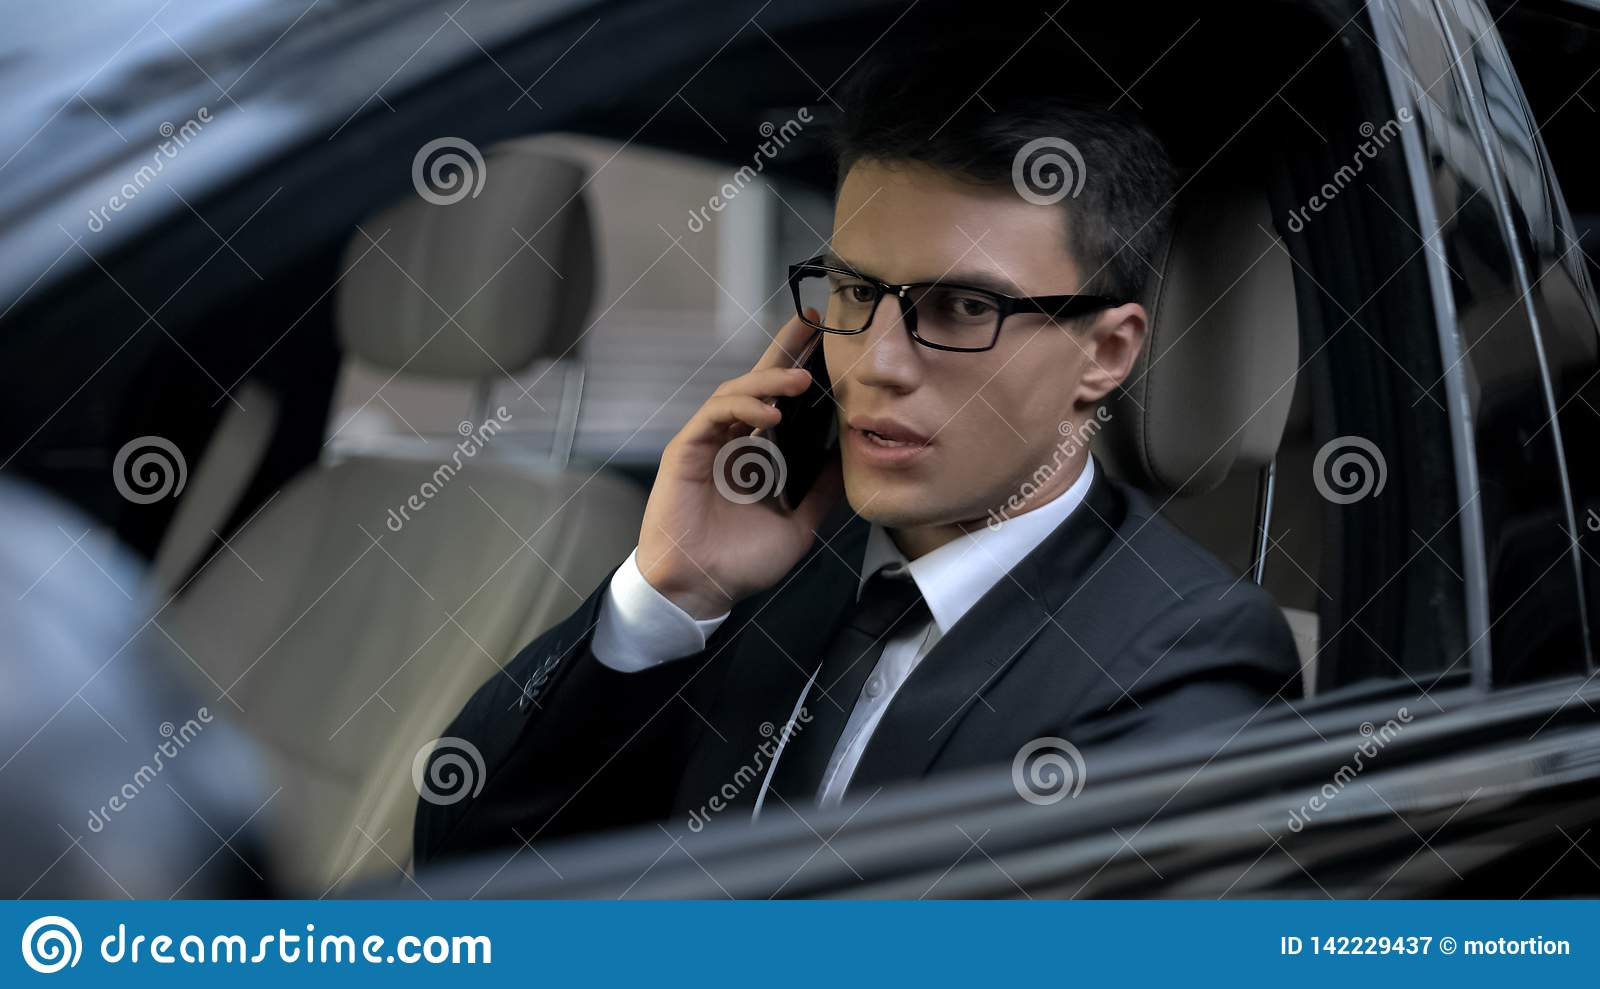phone: (759, 314, 837, 520)
talk: (640, 228, 1035, 619)
